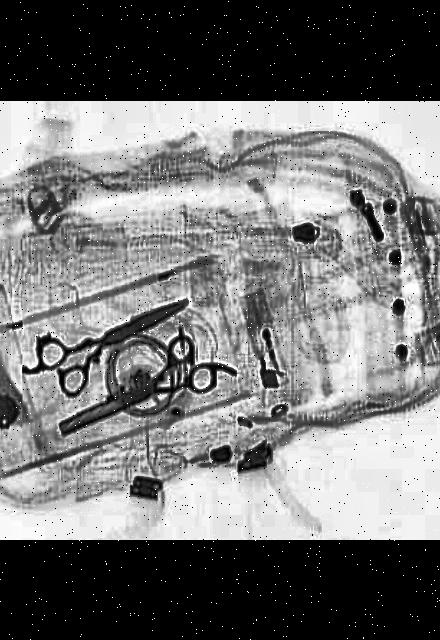Scissors: (35, 316, 241, 454), (8, 270, 214, 404)
